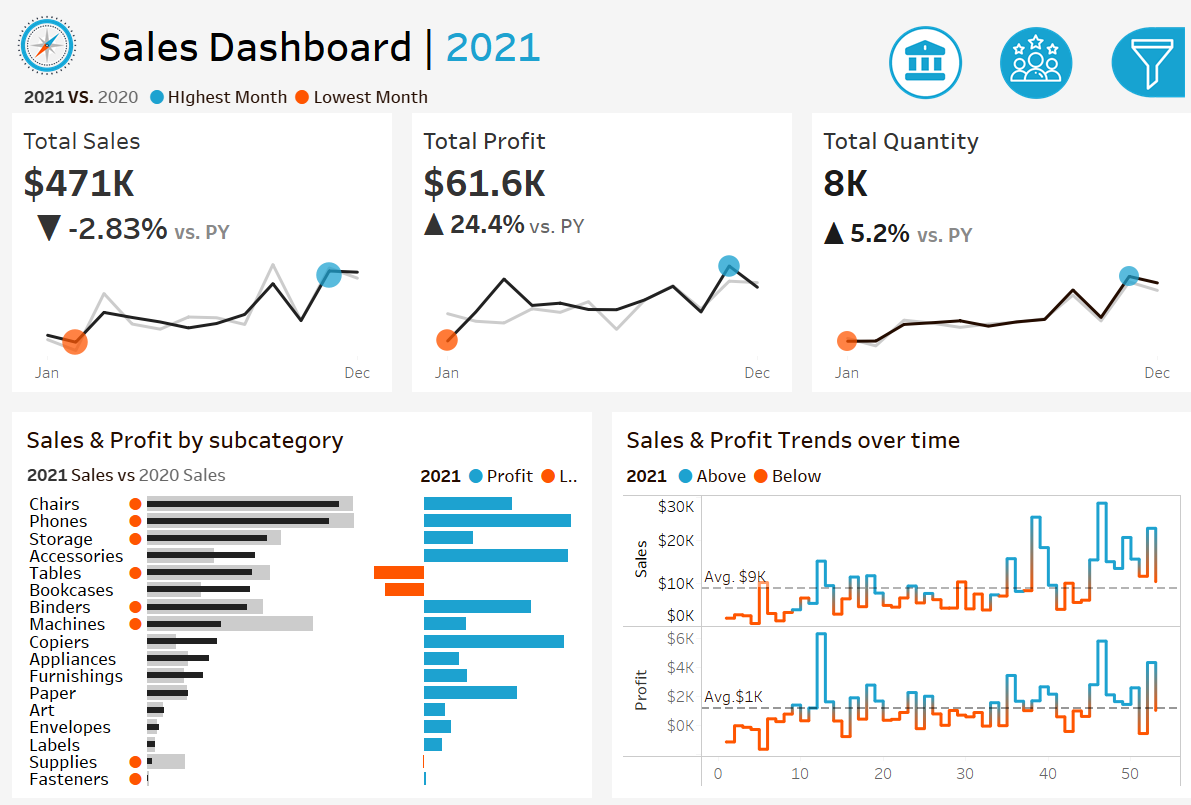

The page's visual inventory and layout, read from the dashboard file:
{"tool":"tableau","page":{"name":"Sales Dashboard","canvas":[1200,800],"ordinal":1},"visuals":[{"type":"image","param":"Image/Icon - Logo.png","box":[0,0,89,70]},{"type":"text","box":[89,0,1111,70]},{"type":"text","box":[881,10,307,203]},{"type":"dashboard-object","box":[868,11,111,83]},{"type":"dashboard-object","box":[979,11,111,83]},{"type":"dashboard-object","box":[1090,11,111,83]},{"type":"worksheet","title":"Legend KPI","mark":"Automatic","box":[0,70,1200,33]},{"type":"worksheet","title":"KPI Sales","mark":"Automatic","rows":["Calculation_1015280260720009220"],"cols":["Order Date"],"box":[0,103,400,289]},{"type":"worksheet","title":"KPI Profit","mark":"Automatic","rows":["Calculation_2153846541876838400"],"cols":["Order Date"],"box":[400,103,400,289]},{"type":"worksheet","title":"KPI Quantity","mark":"Automatic","rows":["Min\\Max Sales (copy)_2153846542523965452"],"cols":["Order Date"],"box":[800,103,400,289]},{"type":"parameter","param":"[Parameters].[Parameter 1]","box":[881,213,307,87]},{"type":"blank","box":[881,300,307,45]},{"type":"text","box":[881,345,307,33]},{"type":"filter","title":"KPI Sales","param":"[federated.0orhc9x1pkaqt21bykb6v1j7q04j].[none:Sub-Category:nk]","box":[881,378,307,61]},{"type":"text","box":[17,409,566,40]},{"type":"text","box":[617,409,566,40]},{"type":"blank","box":[881,439,307,45]},{"type":"worksheet","title":"Legend Subcategory","mark":"Automatic","box":[17,449,394,32]},{"type":"text","box":[411,449,172,32]},{"type":"text","box":[617,449,566,32]},{"type":"worksheet","title":"Subcategory comparison","mark":"Bar","rows":["Sub-Category","Calculation_2153846542573903896"],"cols":["Calculation_1015280260402286593","Calculation_1015280260401688576","Calculation_1015280260756131849"],"box":[17,481,566,299.9]},{"type":"worksheet","title":"Weekly Tends","mark":"Automatic","rows":["Calculation_1015280260401688576","Calculation_1015280260756131849"],"cols":["Order Date"],"box":[617,481,566,300]},{"type":"text","box":[881,484,307,33]},{"type":"filter","title":"KPI Sales","param":"[federated.0orhc9x1pkaqt21bykb6v1j7q04j].[none:Region:nk]","box":[881,517,307,61]},{"type":"filter","title":"KPI Sales","param":"[federated.0orhc9x1pkaqt21bykb6v1j7q04j].[none:State:nk]","box":[881,578,307,61]},{"type":"filter","title":"KPI Sales","param":"[federated.0orhc9x1pkaqt21bykb6v1j7q04j].[none:City:nk]","box":[881,639,307,61]}]}

Visuals, with their boxes in screenshot pixels (x1, y1, x2, y2), scaled from the page's 1200x800 canvas onto the 1191x805 screenshot:
image: [x1=0, y1=0, x2=88, y2=70]
text: [x1=88, y1=0, x2=1190, y2=70]
text: [x1=874, y1=10, x2=1179, y2=214]
dashboard-object: [x1=861, y1=11, x2=972, y2=95]
dashboard-object: [x1=972, y1=11, x2=1082, y2=95]
dashboard-object: [x1=1082, y1=11, x2=1190, y2=95]
"Legend KPI" worksheet: [x1=0, y1=70, x2=1190, y2=104]
"KPI Sales" worksheet: [x1=0, y1=104, x2=397, y2=394]
"KPI Profit" worksheet: [x1=397, y1=104, x2=794, y2=394]
"KPI Quantity" worksheet: [x1=794, y1=104, x2=1190, y2=394]
parameter: [x1=874, y1=214, x2=1179, y2=302]
blank: [x1=874, y1=302, x2=1179, y2=347]
text: [x1=874, y1=347, x2=1179, y2=380]
"KPI Sales" filter: [x1=874, y1=380, x2=1179, y2=442]
text: [x1=17, y1=412, x2=579, y2=452]
text: [x1=612, y1=412, x2=1174, y2=452]
blank: [x1=874, y1=442, x2=1179, y2=487]
"Legend Subcategory" worksheet: [x1=17, y1=452, x2=408, y2=484]
text: [x1=408, y1=452, x2=579, y2=484]
text: [x1=612, y1=452, x2=1174, y2=484]
"Subcategory comparison" worksheet (Bar marks): [x1=17, y1=484, x2=579, y2=786]
"Weekly Tends" worksheet: [x1=612, y1=484, x2=1174, y2=786]
text: [x1=874, y1=487, x2=1179, y2=520]
"KPI Sales" filter: [x1=874, y1=520, x2=1179, y2=582]
"KPI Sales" filter: [x1=874, y1=582, x2=1179, y2=643]
"KPI Sales" filter: [x1=874, y1=643, x2=1179, y2=704]
